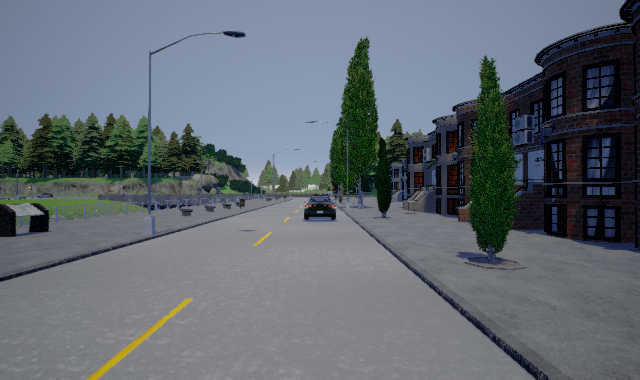vehicle: (304, 194, 336, 220)
